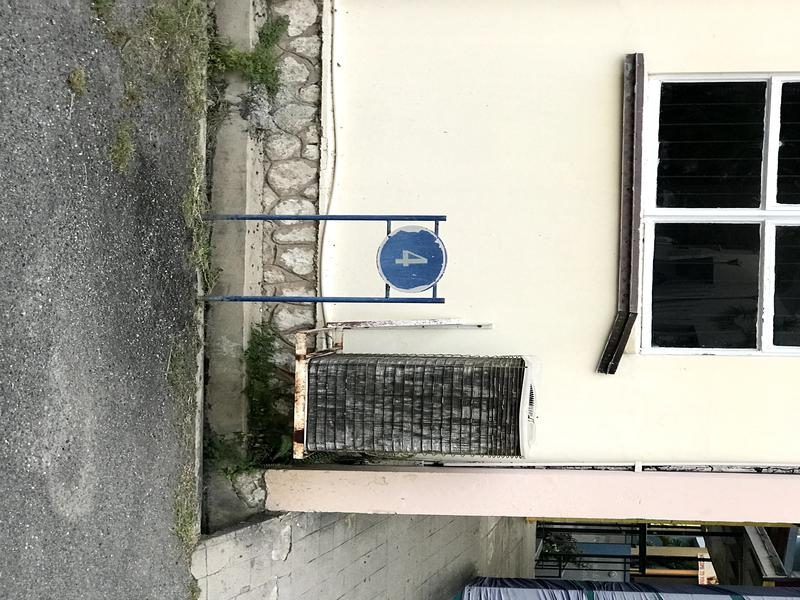18.0053530_-76.7490375_signatentrancetoscitech: (180, 195, 478, 325)
